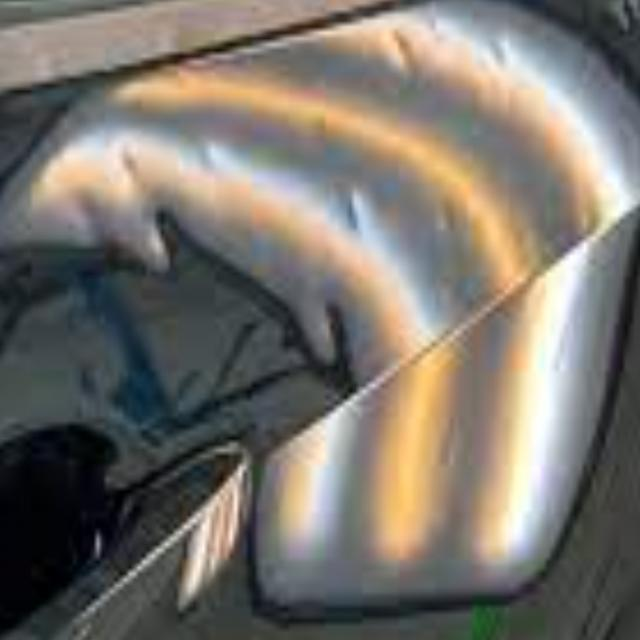dents: (372, 22, 450, 118), (430, 176, 476, 272), (185, 121, 241, 196), (570, 194, 622, 264), (108, 130, 153, 201), (55, 180, 110, 237), (336, 176, 373, 248), (481, 24, 515, 79)
